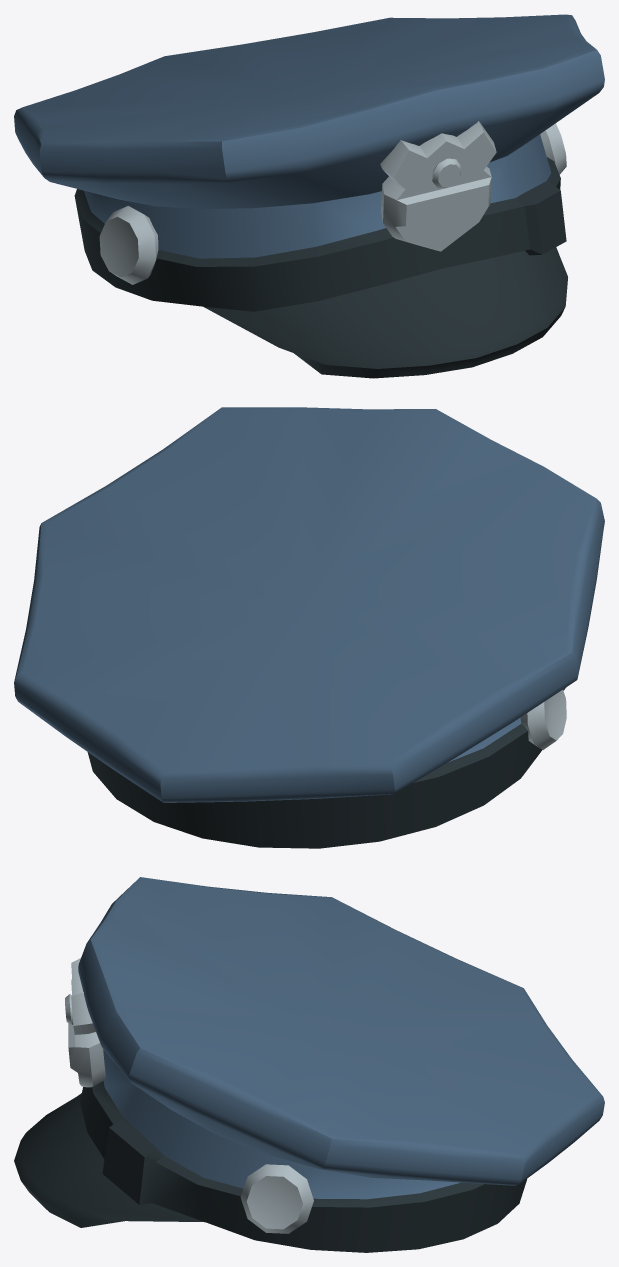
The model's file is police_hat.gltf.glb.
3 renders of one model, top to bottom at view 1: azimuth 30°, elevation 25°; view 2: azimuth 150°, elevation 25°; view 3: azimuth 270°, elevation 25°, orthographic. The views are drawn at different scales.
Visible parts, largest first — view 1: police_hat; view 2: police_hat; view 3: police_hat.
Boxes of the visible parts, x1,y1,x2,y2 form: police_hat: (14,14,604,378); police_hat: (14,407,604,848); police_hat: (14,877,604,1252).
Size of the model in its own units: 1.44 by 0.666 by 1.48.
